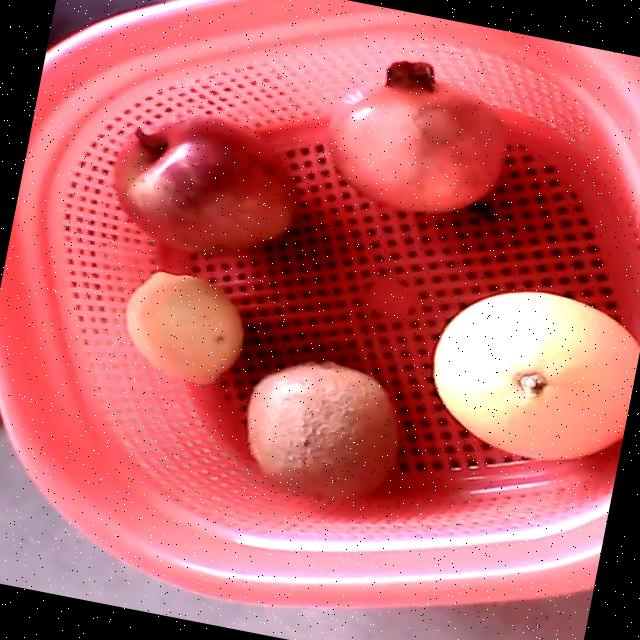apple: (113, 114, 298, 254)
kiwi: (249, 361, 399, 499)
lemon: (126, 268, 245, 386)
orange: (433, 292, 639, 461)
pomegranate: (327, 60, 508, 213)
